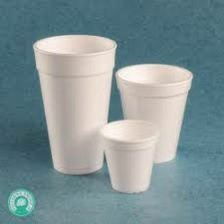paper_cup: (28, 29, 120, 178), (111, 58, 196, 167), (95, 115, 161, 196)
